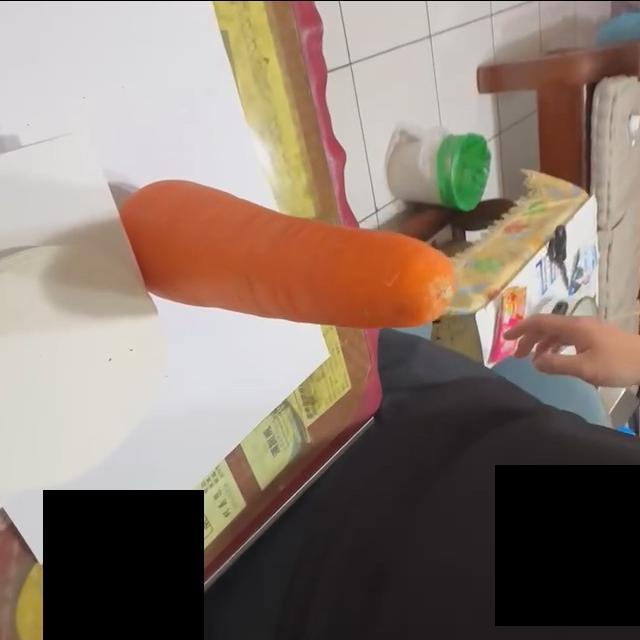carrot: (131, 180, 458, 331)
